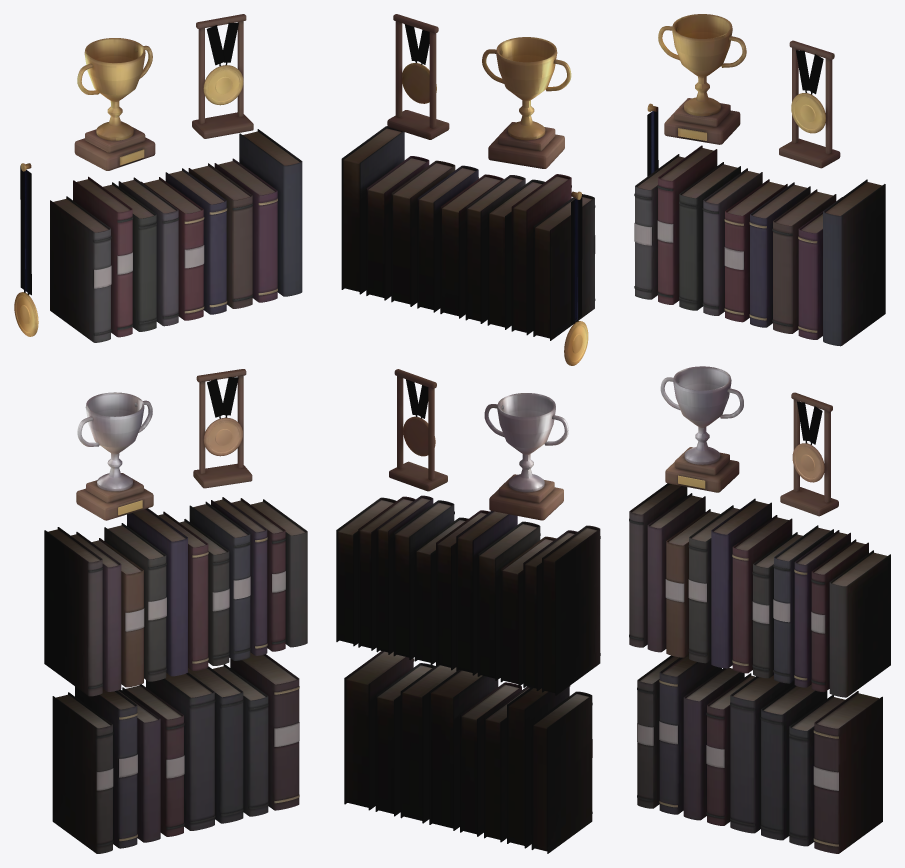
File: shelf-props.glb
The picture shows the model from 3 angles, left to right: view 1: azimuth 30°, elevation 25°; view 2: azimuth 150°, elevation 25°; view 3: azimuth 330°, elevation 25°; orthographic projection.
Visible parts, largest first — view 1: Interactive_Book_pb0, Interactive_Book_tb0, Interactive_Book_book0, Interactive_Trophy_CupTop, Interactive_Trophy_CupLow, Interactive_Book_tb4, Interactive_Book_tb7, Interactive_Book_book8, Interactive_Trophy_MedalTop, Interactive_Trophy_MedalLow, Interactive_Book_tb1, Interactive_Book_tb5 (+21 smaller); view 2: Interactive_Book_pb0, Interactive_Book_tb0, Interactive_Trophy_CupTop, Interactive_Book_book0, Interactive_Trophy_CupLow, Interactive_Book_tb4, Interactive_Book_tb7, Interactive_Book_book8, Interactive_Book_tb5, Interactive_Book_tb1, Interactive_Trophy_MedalTop, Interactive_Book_book1 (+21 smaller); view 3: Interactive_Book_tb7, Interactive_Book_book8, Interactive_Book_pb10, Interactive_Trophy_CupTop, Interactive_Trophy_CupLow, Interactive_Book_tb4, Interactive_Book_tb5, Interactive_Book_tb1, Interactive_Trophy_MedalTop, Interactive_Book_pb4, Interactive_Book_book1, Interactive_Trophy_MedalLow (+21 smaller).
Boxes of the visible parts, <box> form: Interactive_Book_pb0: <box>44,527,102,696</box>; Interactive_Book_tb0: <box>52,692,113,853</box>; Interactive_Book_book0: <box>50,196,111,342</box>; Interactive_Trophy_CupTop: <box>74,38,155,170</box>; Interactive_Trophy_CupLow: <box>76,392,153,520</box>; Interactive_Book_tb4: <box>146,672,215,830</box>; Interactive_Book_tb7: <box>230,652,299,810</box>; Interactive_Book_book8: <box>239,129,302,296</box>; Interactive_Trophy_MedalTop: <box>192,14,253,138</box>; Interactive_Trophy_MedalLow: <box>193,369,252,488</box>; Interactive_Book_tb1: <box>75,686,137,848</box>; Interactive_Book_tb5: <box>188,666,243,823</box>; Interactive_Book_pb0: <box>542,525,600,695</box>; Interactive_Book_tb0: <box>531,691,592,853</box>; Interactive_Trophy_CupTop: <box>482,37,571,168</box>; Interactive_Book_book0: <box>533,194,595,340</box>; Interactive_Trophy_CupLow: <box>484,393,568,520</box>; Interactive_Book_tb4: <box>429,670,498,830</box>; Interactive_Book_tb7: <box>344,651,414,810</box>; Interactive_Book_book8: <box>341,126,404,294</box>; Interactive_Book_tb5: <box>400,665,456,823</box>; Interactive_Book_tb1: <box>507,686,570,848</box>; Interactive_Trophy_MedalTop: <box>387,14,449,139</box>; Interactive_Book_book1: <box>511,174,571,335</box>; Interactive_Book_tb7: <box>813,691,882,853</box>; Interactive_Book_book8: <box>823,179,885,346</box>; Interactive_Book_pb10: <box>829,550,890,697</box>; Interactive_Trophy_CupTop: <box>658,14,746,144</box>; Interactive_Trophy_CupLow: <box>660,366,743,492</box>; Interactive_Book_tb4: <box>730,675,794,833</box>; Interactive_Book_tb5: <box>760,684,827,840</box>; Interactive_Book_tb1: <box>659,654,721,814</box>; Interactive_Trophy_MedalTop: <box>779,40,840,168</box>; Interactive_Book_pb4: <box>711,498,771,668</box>; Interactive_Book_book1: <box>657,145,717,304</box>; Interactive_Trophy_MedalLow: <box>780,392,838,516</box>.
Size of the model in its own units: 0.6506 by 2 by 0.2607.
1 material, 1 textured.
